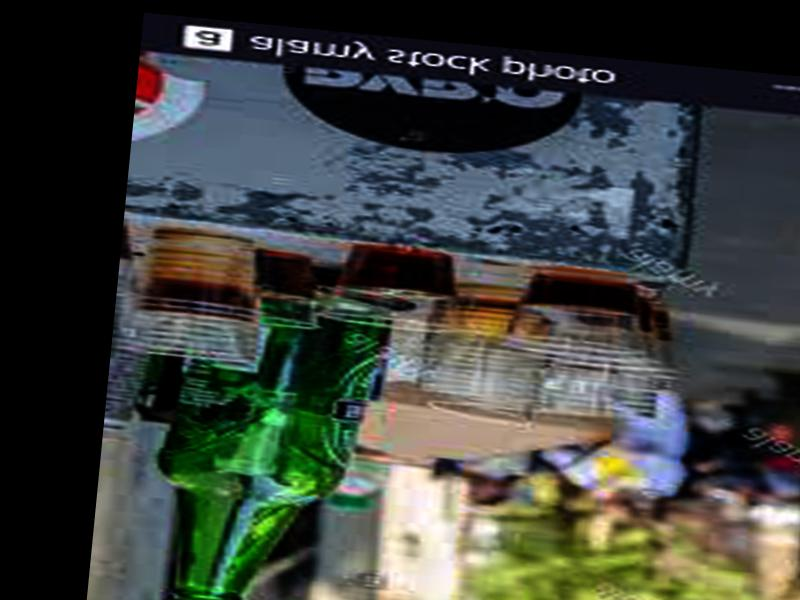Beer: (141, 262, 399, 600)
